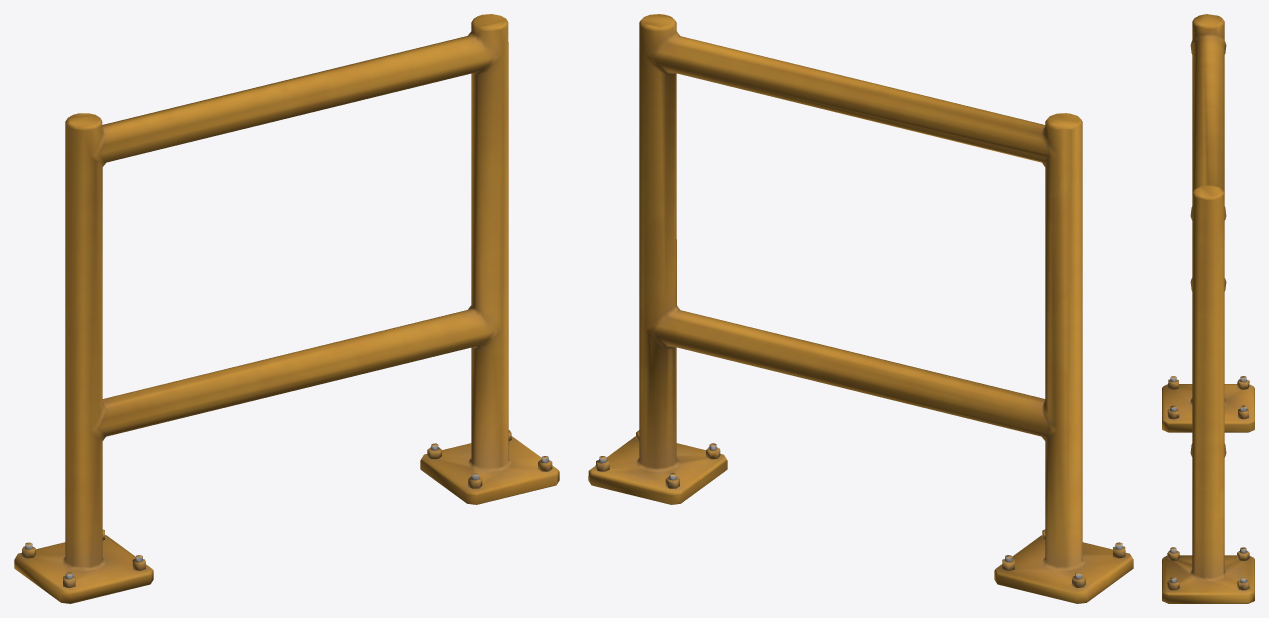
Rendered from SimReadyFenceFar.glb.
3 renders of one model, left to right at view 1: azimuth 30°, elevation 25°; view 2: azimuth 150°, elevation 25°; view 3: azimuth 270°, elevation 25°, orthographic. The views are drawn at different scales.
Parts seen in each view (by area): view 1: sm_barrier_fence_a02_mesh_00; view 2: sm_barrier_fence_a02_mesh_00; view 3: sm_barrier_fence_a02_mesh_00.
Boxes of the visible parts, left/top/right/bottom form: sm_barrier_fence_a02_mesh_00: left=14, top=14, right=559, bottom=603; sm_barrier_fence_a02_mesh_00: left=588, top=14, right=1133, bottom=603; sm_barrier_fence_a02_mesh_00: left=1162, top=14, right=1254, bottom=603.
Bounding box in the file's own units: 1.23 × 1.07 × 0.2294.
1 material, 1 textured.
